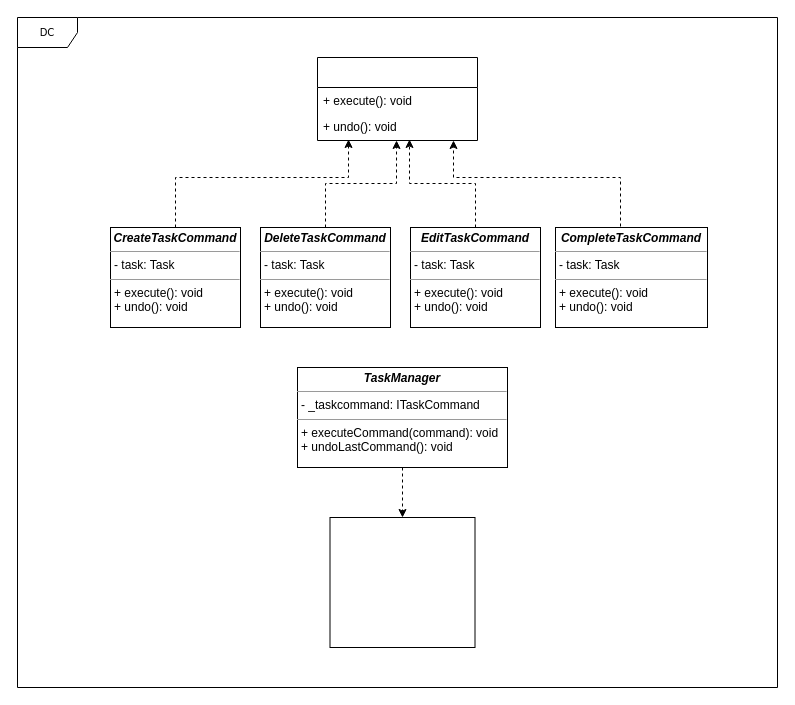
Image size: 795x705. Some labels were removed from this diagram. The box of each missing label's shape, as (x1, y1, x2, y2) in pixels:
Task + id: number + title: string + completed: boolean + toggleComplete(): void: (329, 516, 475, 648)
«interface» ITaskCommand: (316, 56, 478, 140)
